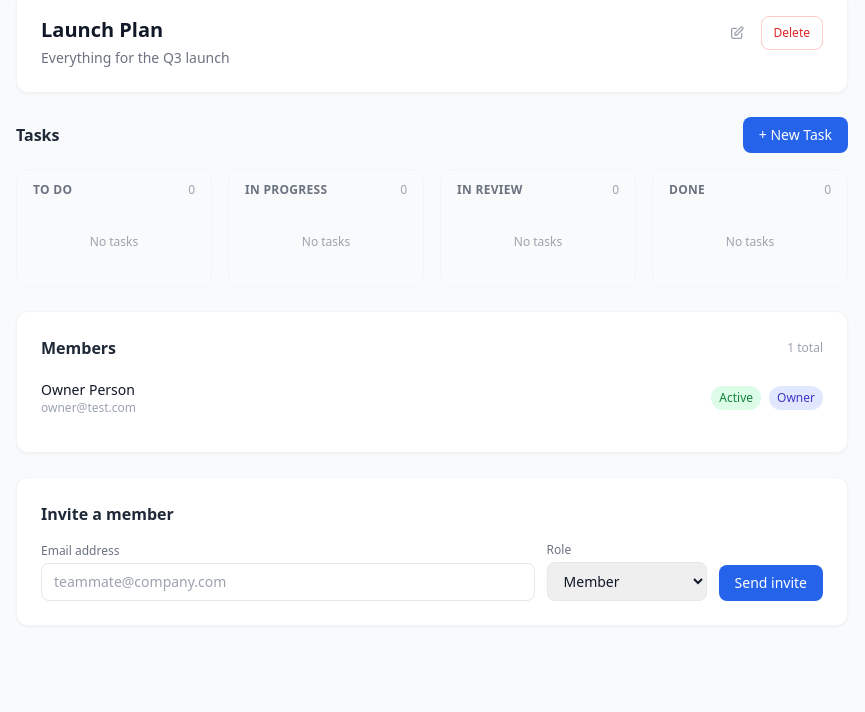
ProjectDetail › enters edit mode and saves updated project details
Expected: the heading "Launch Plan" is shown, [41, 16, 163, 43]
Step 1. Click the button named "edit project" → click(736, 33), box [720, 17, 752, 49]
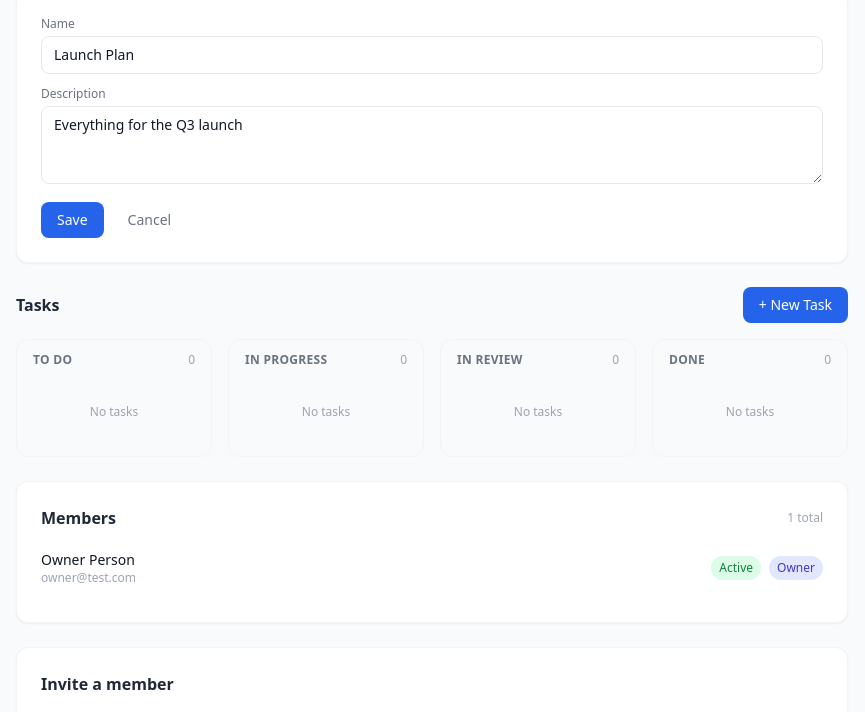
Step 2. Replace the text in the field labelled "Name" with "Renamed Plan" → (432, 55), box [41, 36, 823, 74]
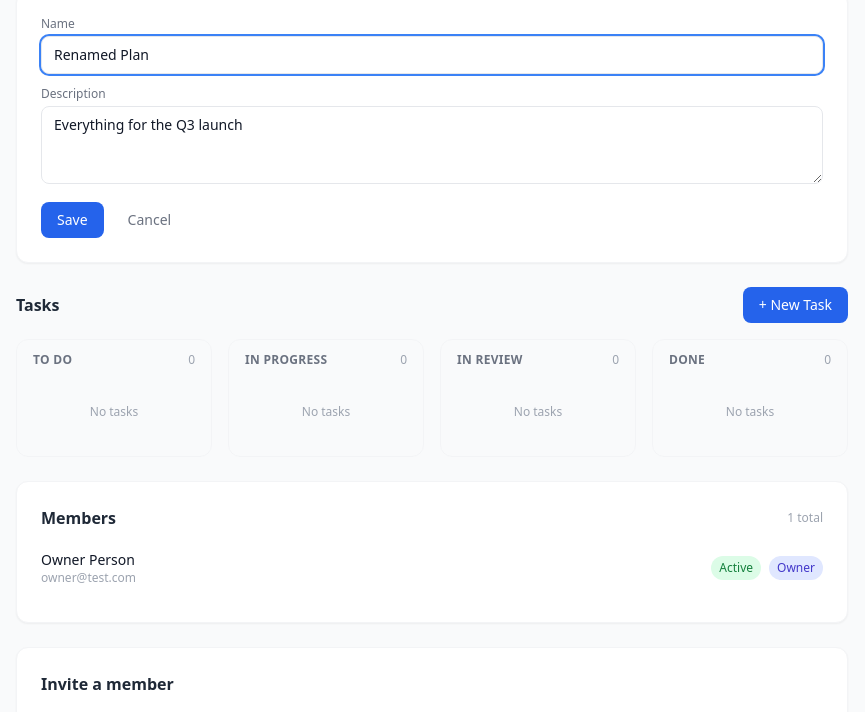
Step 3. Click the button "Save" → click(72, 220), box [41, 202, 104, 238]
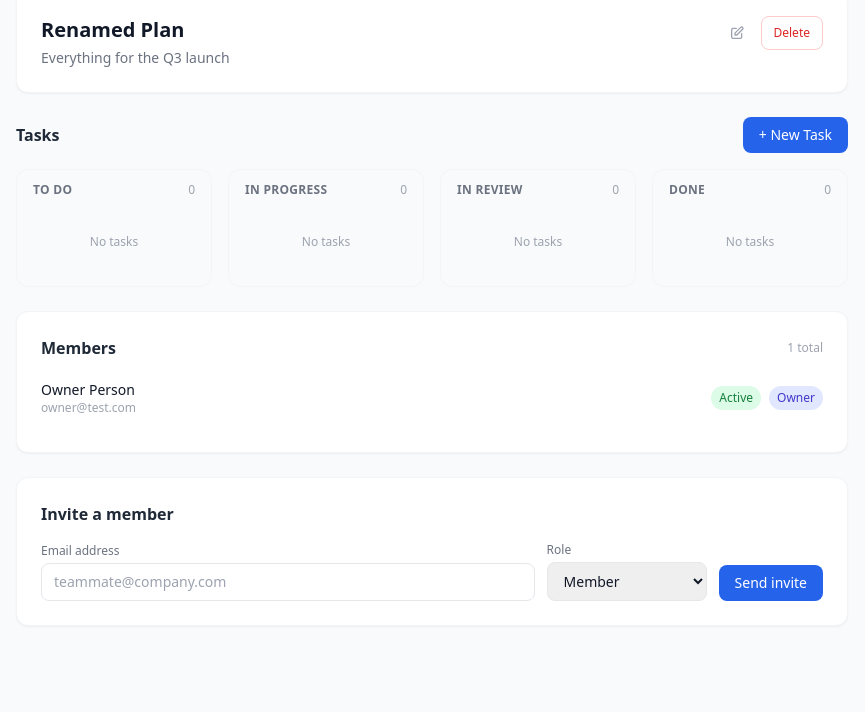
Result: the heading "Renamed Plan" is shown at [41, 16, 184, 43]
